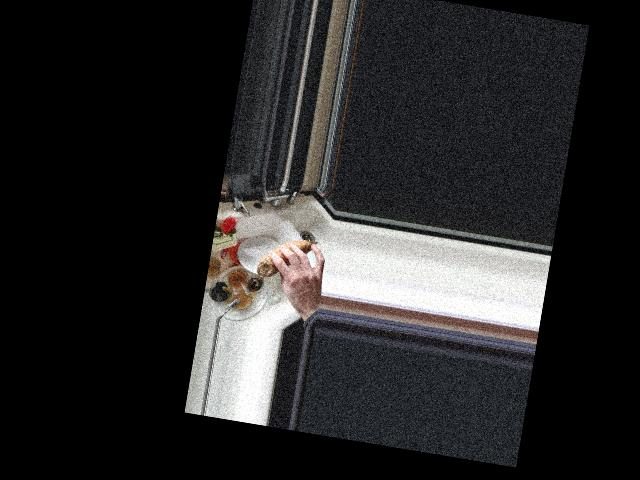sweet_potato: (257, 233, 318, 284)
